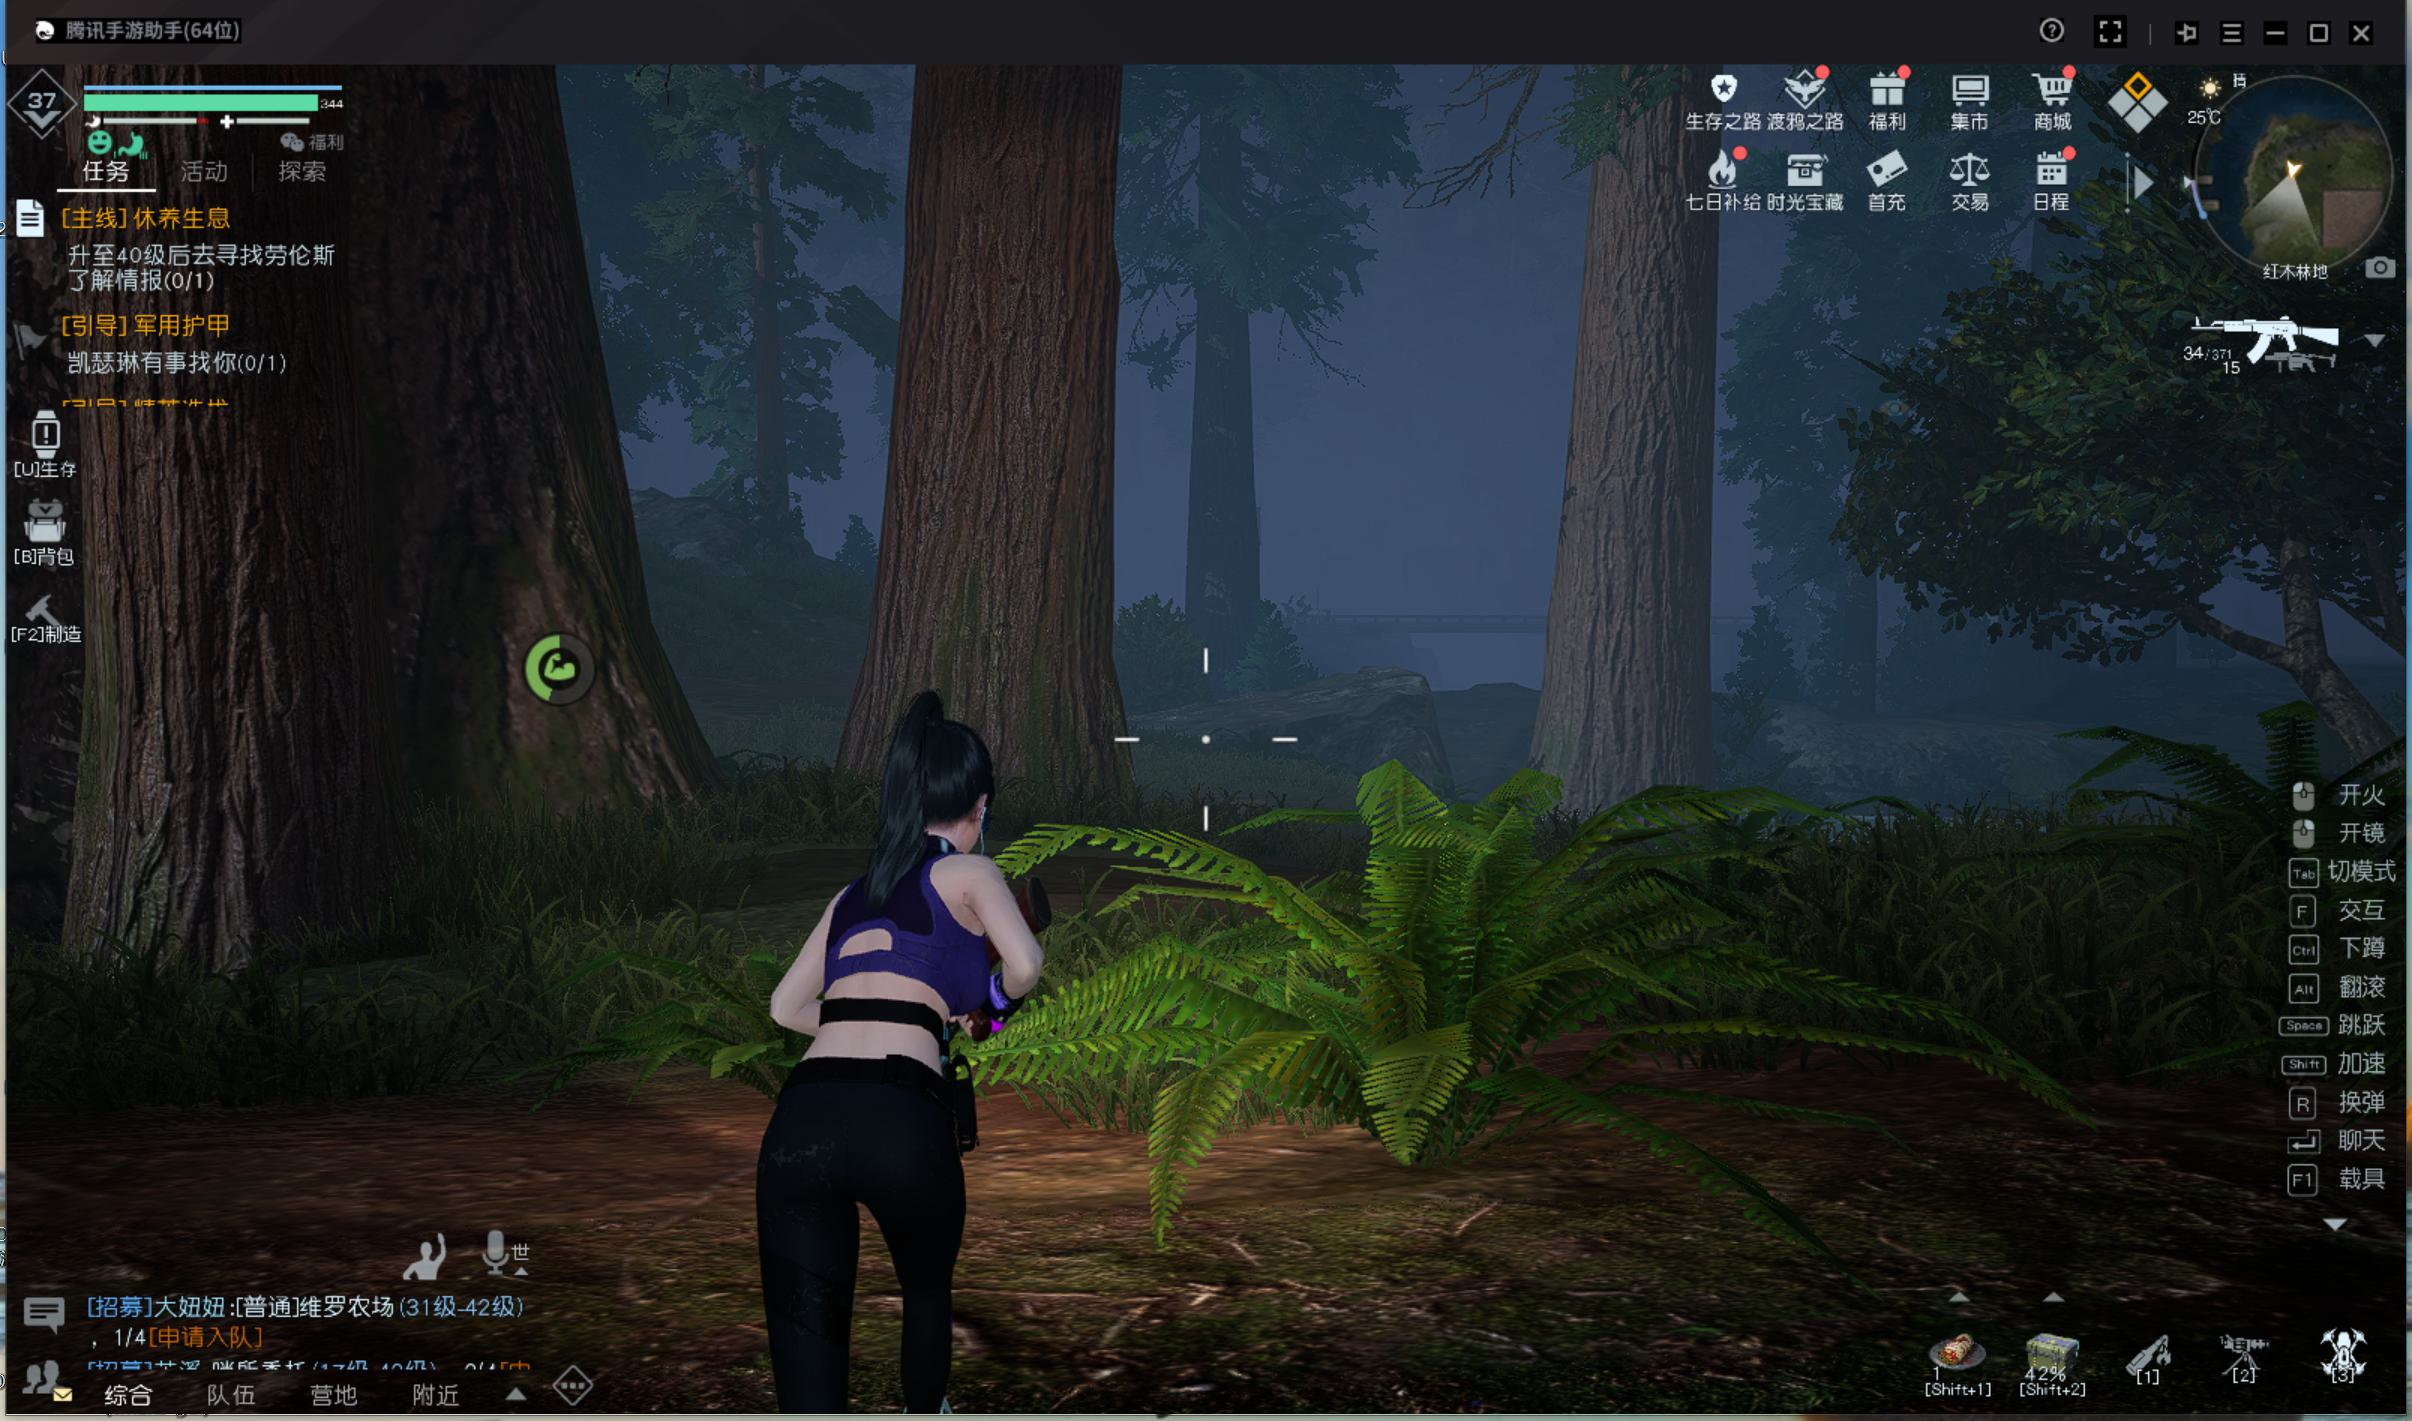tree: (874, 117, 1142, 827), (1543, 139, 1739, 824)
